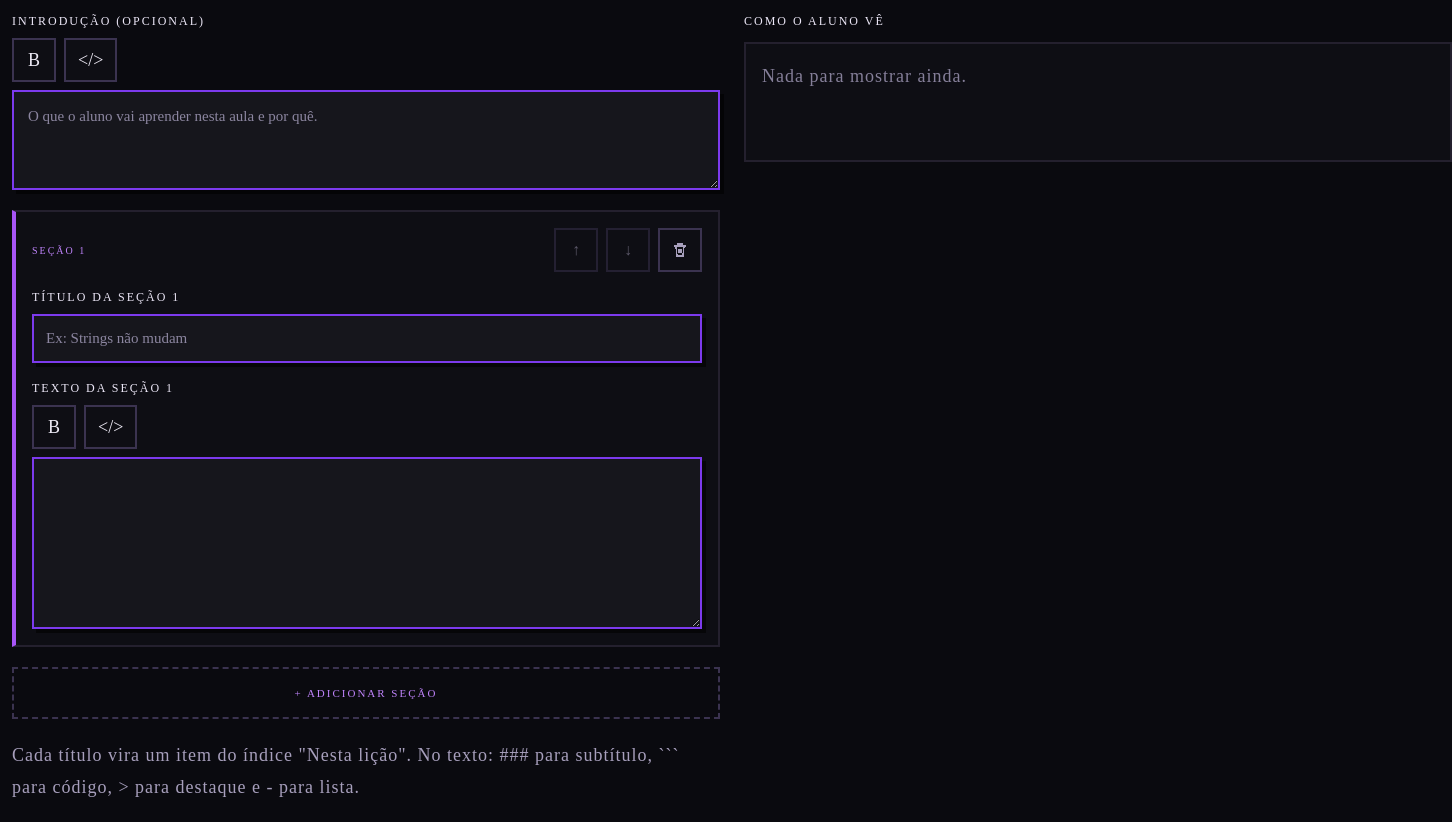
Test case: EditorDeSecoes › texto do autor entra como texto, nunca como HTML
Type "X" into the field labelled "TÍTULO DA SEÇÃO 1" at (367,338), box [46,316,688,360]
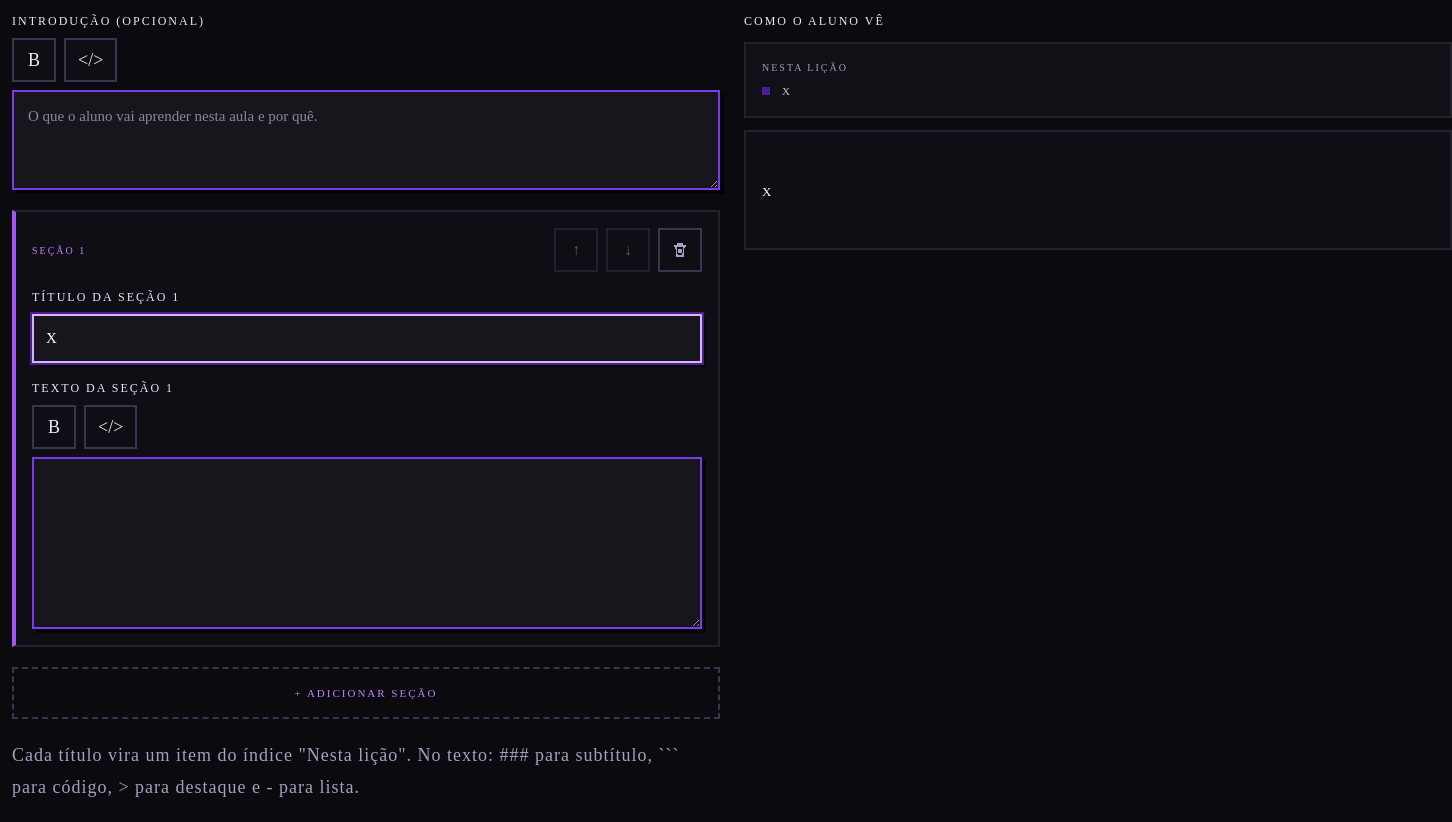
Type "<img src=x onerror=alert(1)>" into the text box labelled "TEXTO DA SEÇÃO 1" at (367,542), box [32,456,702,628]
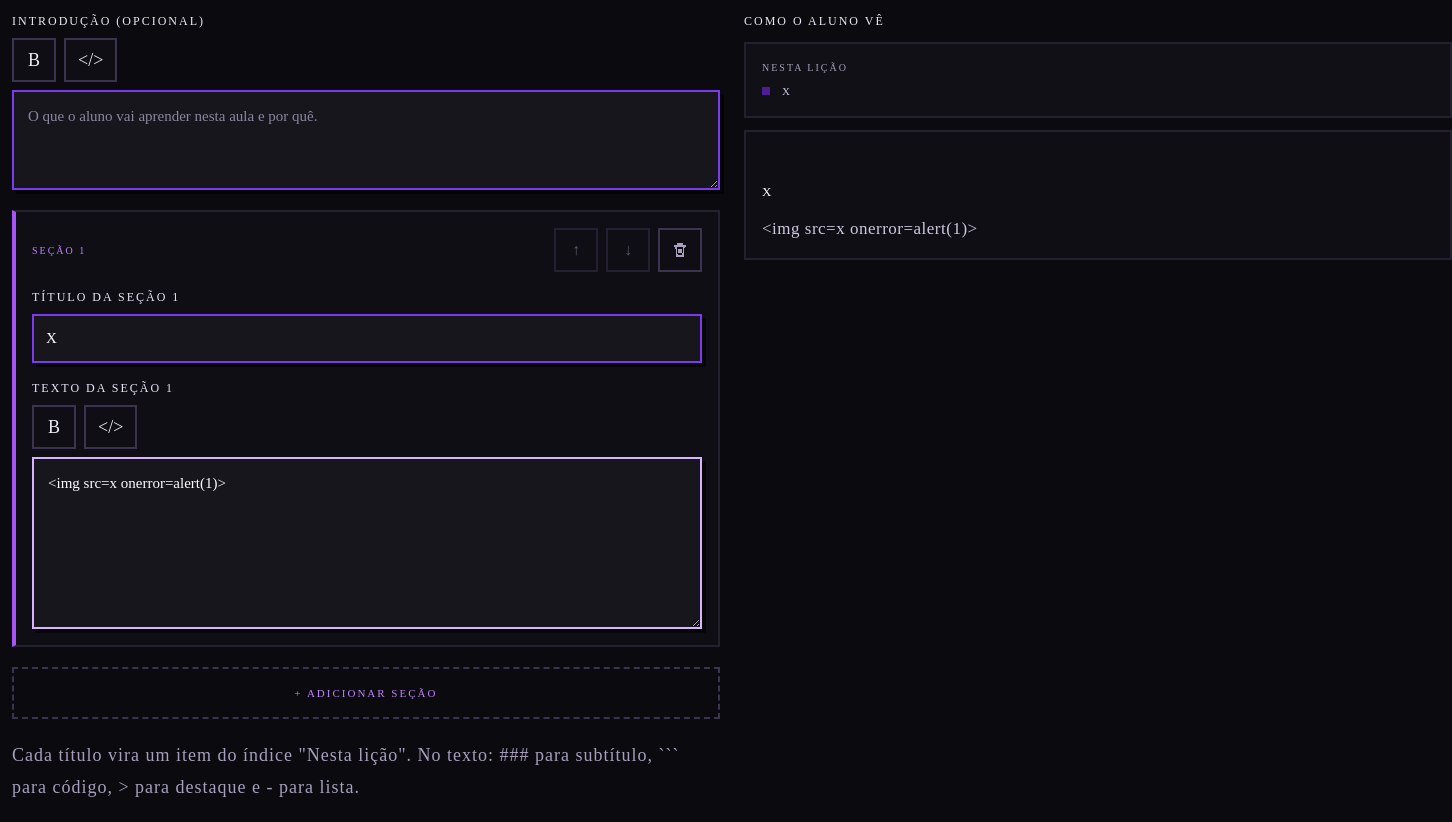
expect the text "<img src=x onerror=alert(1)>" is shown: met, box [762,219,978,238]
